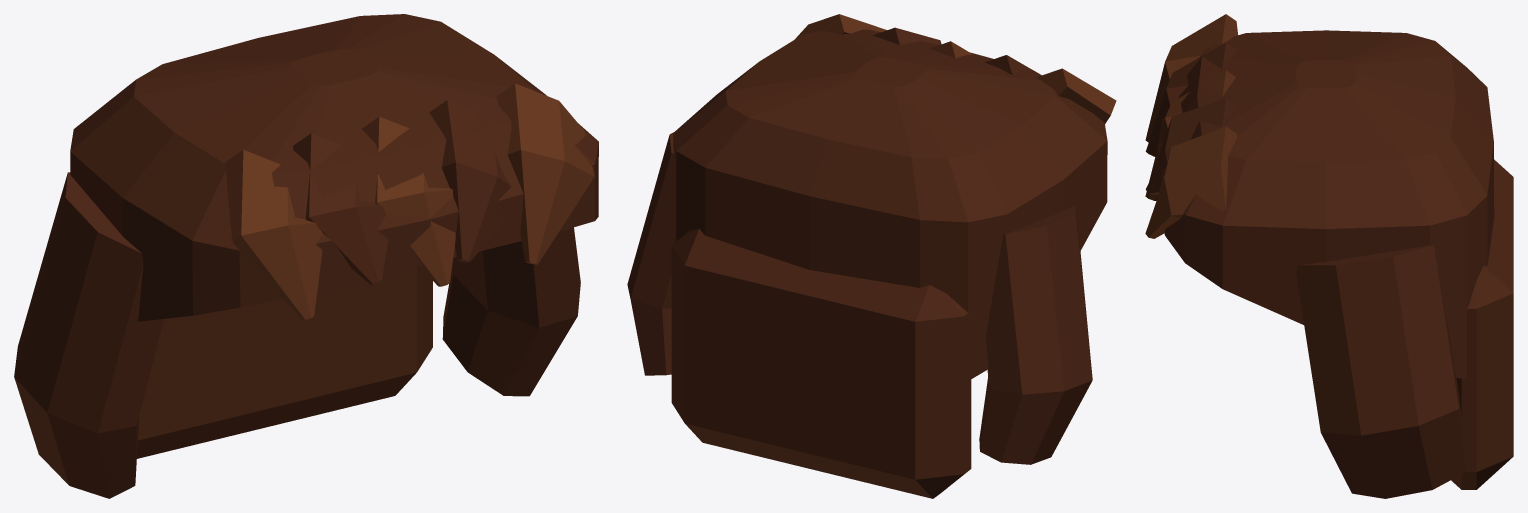
File: SM_NPC_Hair_02_Bob.glb
3 renders of one model, left to right at view 1: azimuth 30°, elevation 25°; view 2: azimuth 150°, elevation 25°; view 3: azimuth 270°, elevation 25°, orthographic. The views are drawn at different scales.
Parts seen in each view (by area): view 1: SM_NPC_Hair_02_Bob; view 2: SM_NPC_Hair_02_Bob; view 3: SM_NPC_Hair_02_Bob.
Boxes of the visible parts, x1,y1,x2,y2 form: SM_NPC_Hair_02_Bob: [14, 14, 598, 498]; SM_NPC_Hair_02_Bob: [627, 14, 1116, 498]; SM_NPC_Hair_02_Bob: [1145, 14, 1513, 498].
Size of the model in its own units: 0.8248 by 0.622 by 0.5805.
